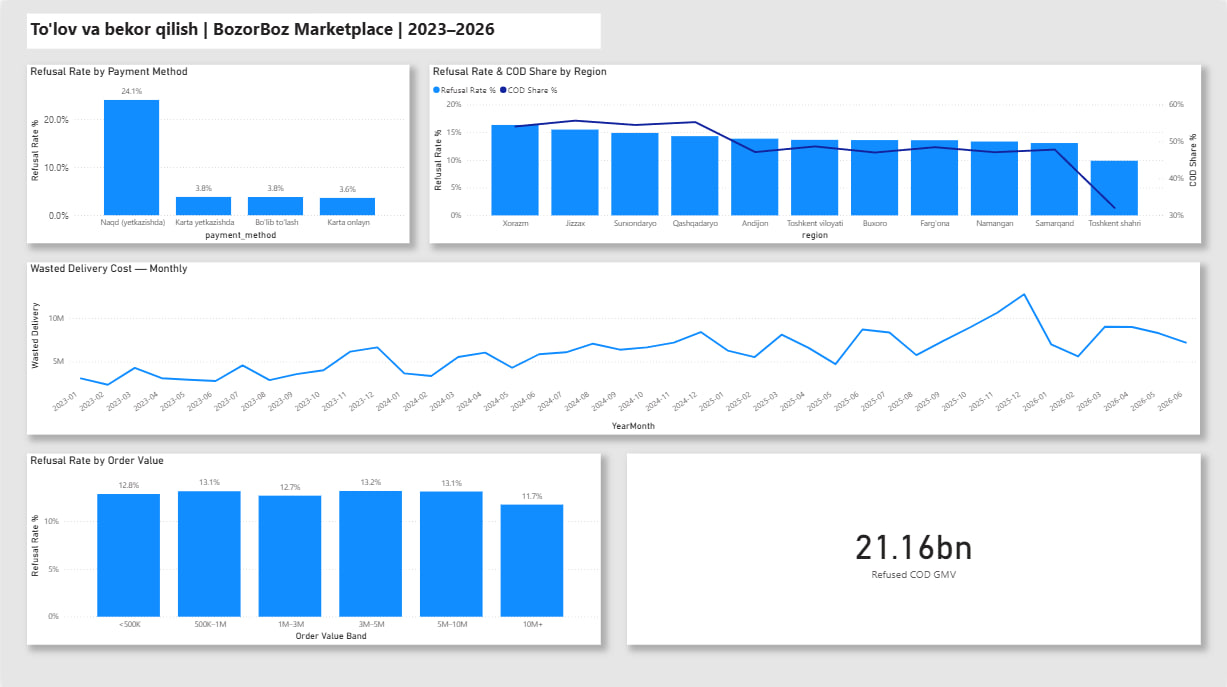

Layout of this report page (visuals, bound fields, positions):
{"tool":"powerbi","page":{"name":"To'lov va bekor qilish","canvas":[1920,1080],"ordinal":2},"visuals":[{"type":"textbox","box":[40,20,900,55],"z":0},{"type":"clusteredColumnChart","title":"Refusal Rate by Payment Method","fields":{"Category":["fact_order.payment_method"],"Y":["BB_Measures.Refusal Rate %"]},"box":[40,100,600,280],"z":1000},{"type":"lineClusteredColumnComboChart","title":"Refusal Rate & COD Share by Region","fields":{"Category":["fact_order.region"],"Y":["BB_Measures.Refusal Rate %"],"Y2":["BB_Measures.COD Share %"]},"box":[670,100,1210,280],"z":2000},{"type":"lineChart","title":"Wasted Delivery Cost — Monthly","fields":{"Category":["dim_date.YearMonth"],"Y":["BB_Measures.Wasted Delivery"]},"box":[40,410,1840,270],"z":3000},{"type":"clusteredColumnChart","title":"Refusal Rate by Order Value","fields":{"Category":["fact_order.Order Value Band"],"Y":["BB_Measures.Refusal Rate %"]},"box":[40,710,900,300],"z":4000},{"type":"card","fields":{"Values":["BB_Measures.Refused COD GMV"]},"box":[980,710,900,300],"z":5000}]}

Visuals, with their boxes in screenshot pixels (x1, y1, x2, y2), scaled from the page's 1920x1080 canvas onto the 1227x687 screenshot:
textbox: box(26, 13, 601, 48)
"Refusal Rate by Payment Method" clusteredColumnChart: box(26, 64, 409, 242)
"Refusal Rate & COD Share by Region" lineClusteredColumnComboChart: box(428, 64, 1201, 242)
"Wasted Delivery Cost — Monthly" lineChart: box(26, 261, 1201, 433)
"Refusal Rate by Order Value" clusteredColumnChart: box(26, 452, 601, 642)
card - BB_Measures.Refused COD GMV: box(626, 452, 1201, 642)
